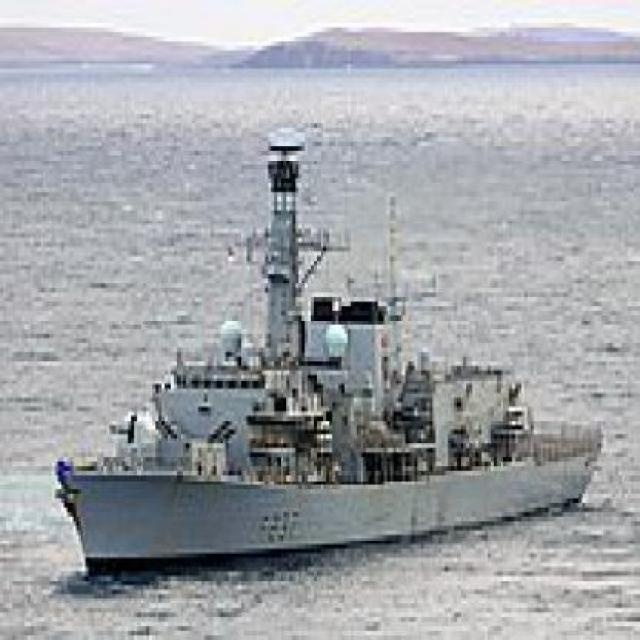warship2: (50, 106, 614, 582)
